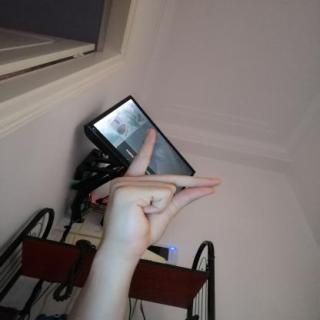TAA: (94, 123, 228, 255)
